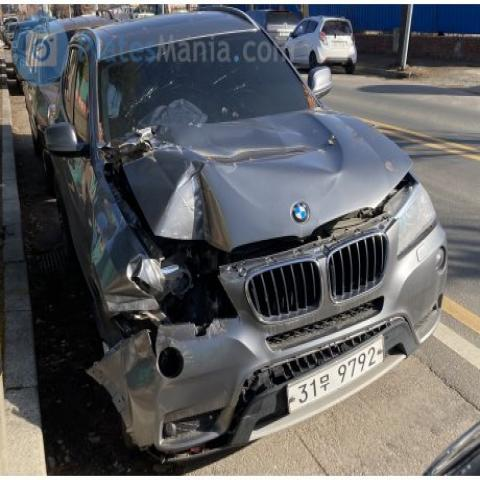LP: (281, 327, 385, 427)
